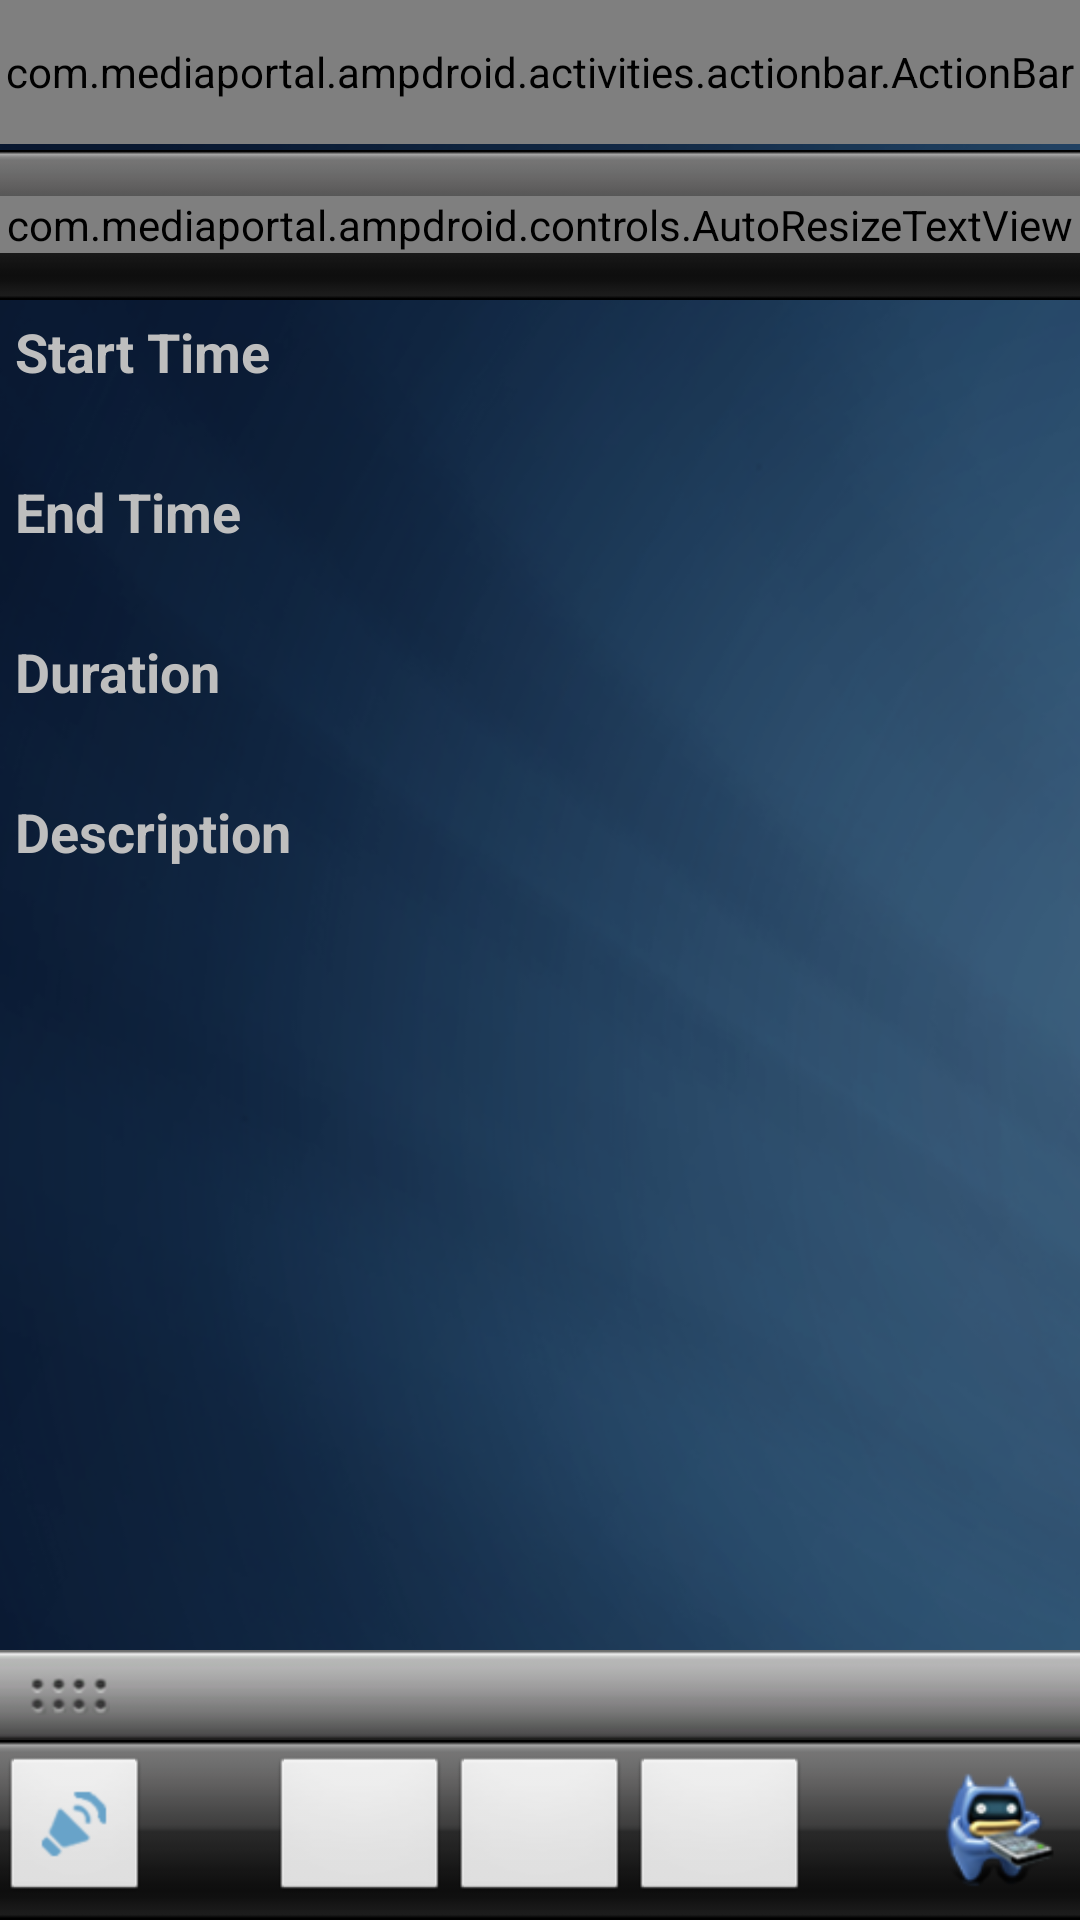

Where to tap for icons on this 1080x1920 app screen, as (x=x, y=y):
slidingdrawer: (x=70, y=1695)
volume: (x=75, y=1830)
